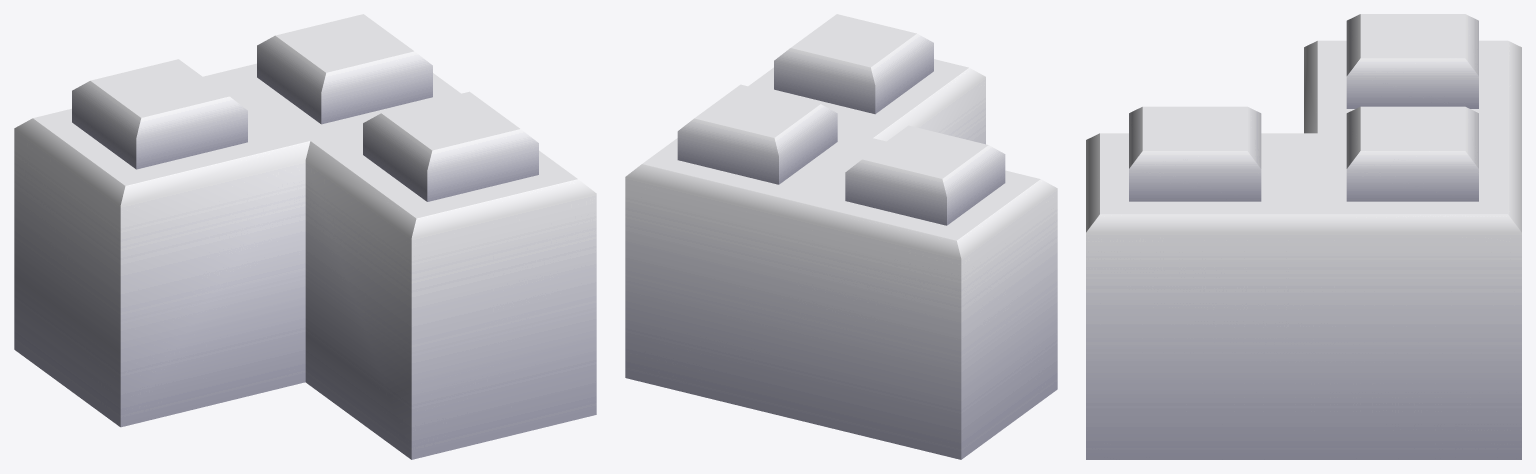
Rendered from square_hq_brick_corner.glb.
The picture shows the model from 3 angles, left to right: view 1: azimuth 30°, elevation 25°; view 2: azimuth 150°, elevation 25°; view 3: azimuth 270°, elevation 25°; orthographic projection. The views are drawn at different scales.
Visible parts, largest first — view 1: square-hq-brick-corner; view 2: square-hq-brick-corner; view 3: square-hq-brick-corner.
Boxes of the visible parts, x1,y1,x2,y2 form: square-hq-brick-corner: [14, 14, 596, 459]; square-hq-brick-corner: [625, 14, 1057, 459]; square-hq-brick-corner: [1086, 14, 1521, 459].
Bounding box in the file's own units: 0.159 × 0.114 × 0.158.
Materials: 1 (1 with a texture image).
